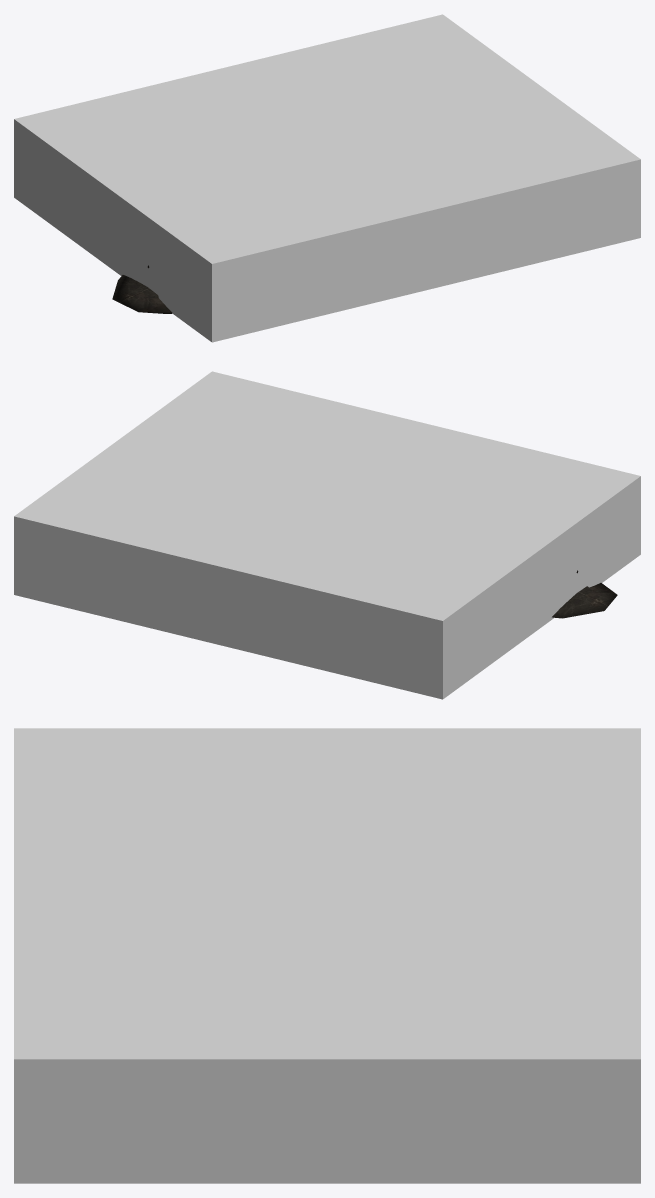
Rendered from remains_heap_opened.glb.
The picture shows the model from 3 angles, top to bottom: view 1: azimuth 30°, elevation 25°; view 2: azimuth 150°, elevation 25°; view 3: azimuth 270°, elevation 25°; orthographic projection. The views are drawn at different scales.
Visible parts, largest first — view 1: col_click, remains_heap_opened; view 2: col_click, remains_heap_opened; view 3: col_click.
Boxes of the visible parts, bbox=[...] form: col_click: bbox=[14, 14, 640, 342]; remains_heap_opened: bbox=[112, 265, 172, 313]; col_click: bbox=[14, 371, 640, 699]; remains_heap_opened: bbox=[552, 570, 617, 618]; col_click: bbox=[14, 728, 640, 1183].
Bounding box in the file's own units: 2.15 × 0.3686 × 1.6.
Materials: 4 (3 with a texture image).
